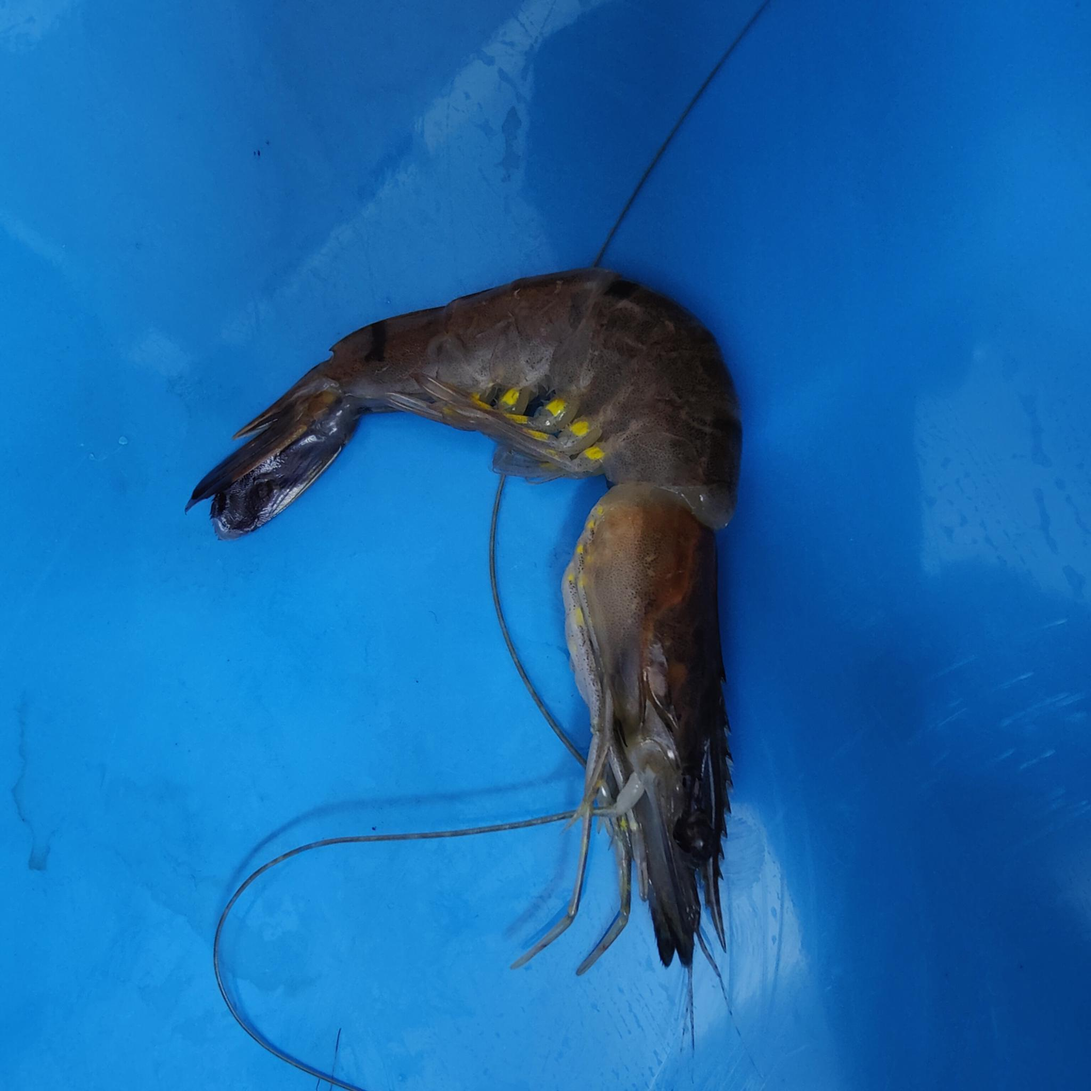whitespot: (584, 496, 711, 679), (659, 385, 720, 497)
